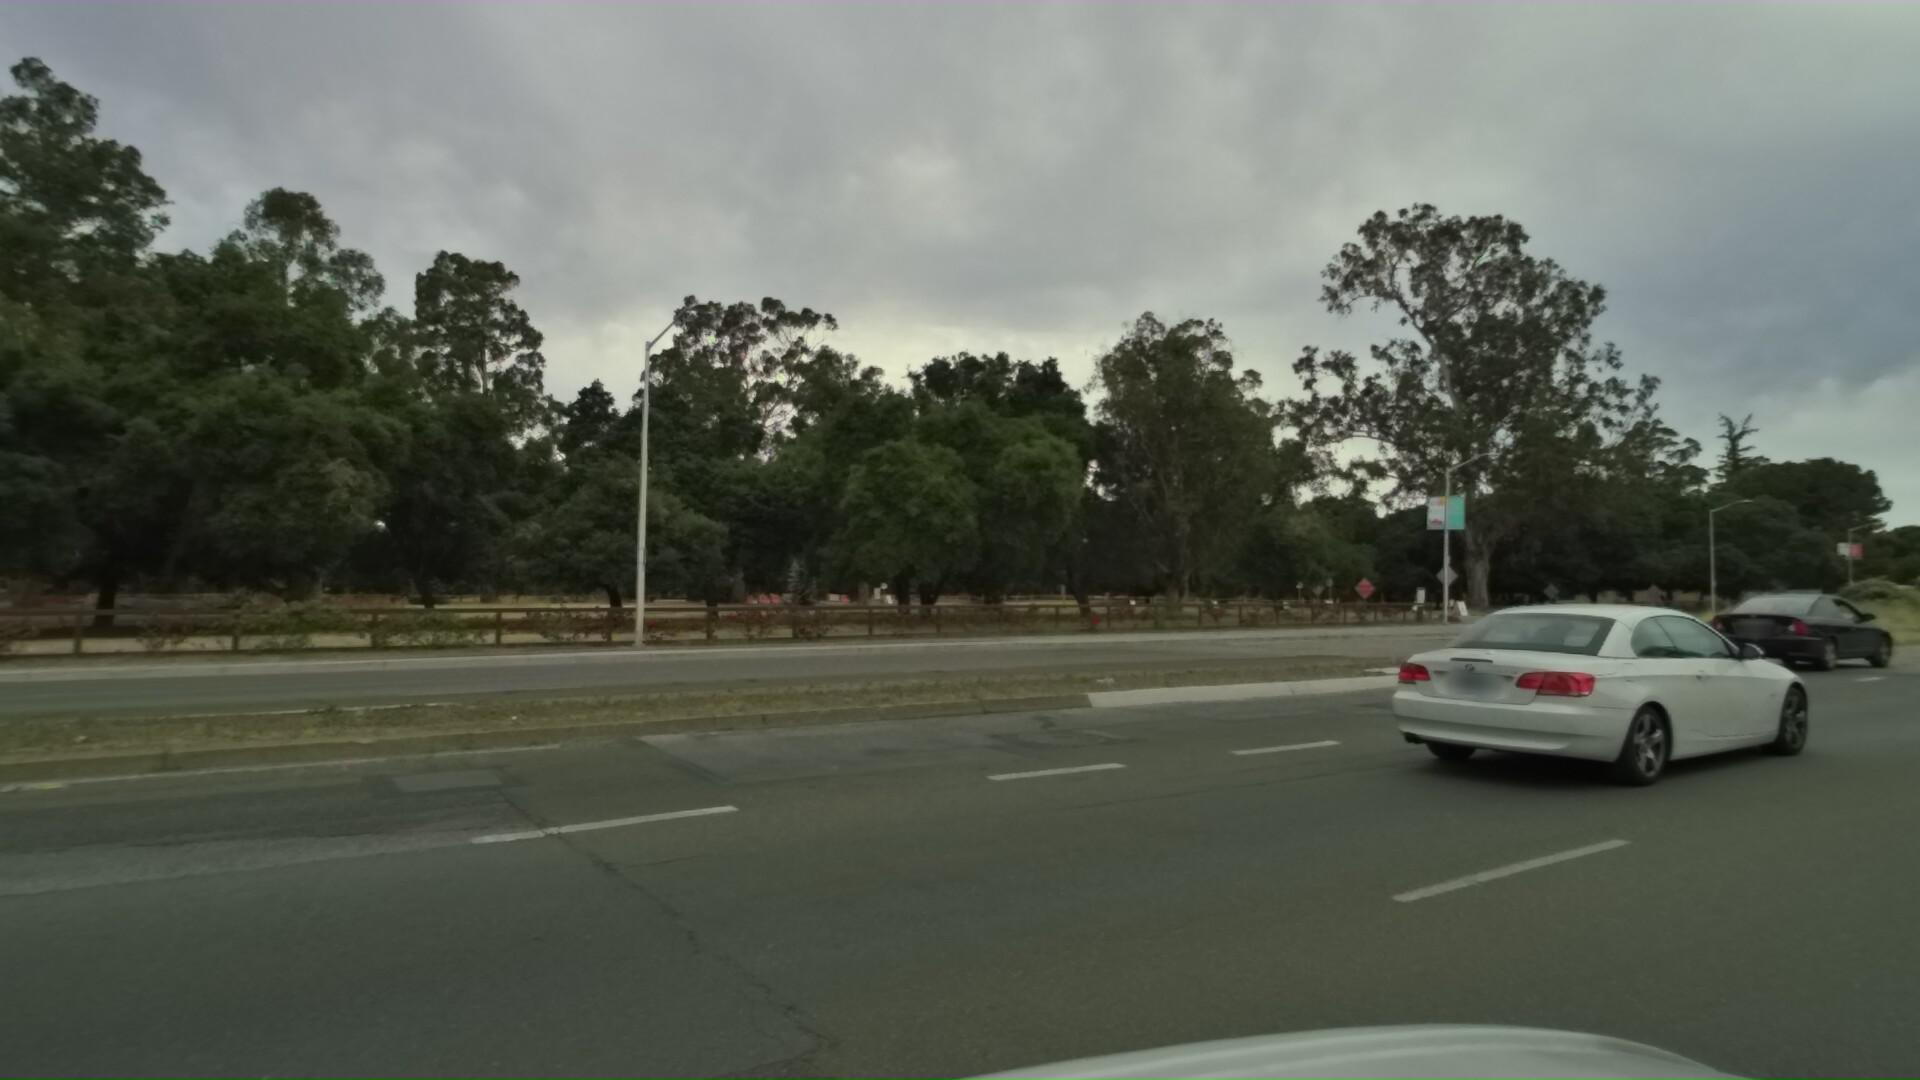car: (1373, 591, 1853, 793), (1695, 582, 1898, 673)
